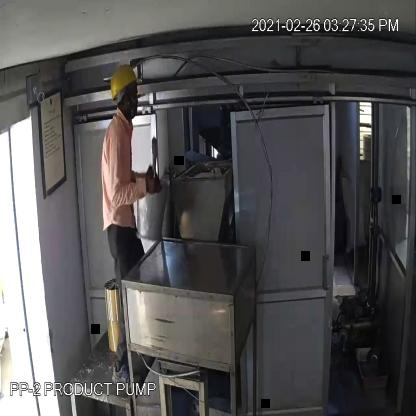helmet: (109, 65, 143, 103)
